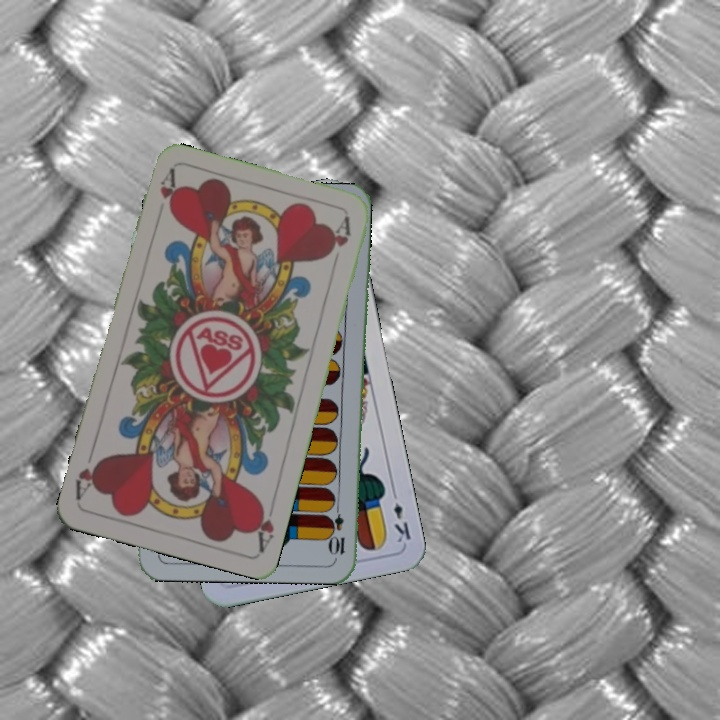E10: (329, 498, 347, 558)
EK: (387, 486, 414, 545)
HA: (249, 495, 279, 554), (156, 167, 178, 211)
